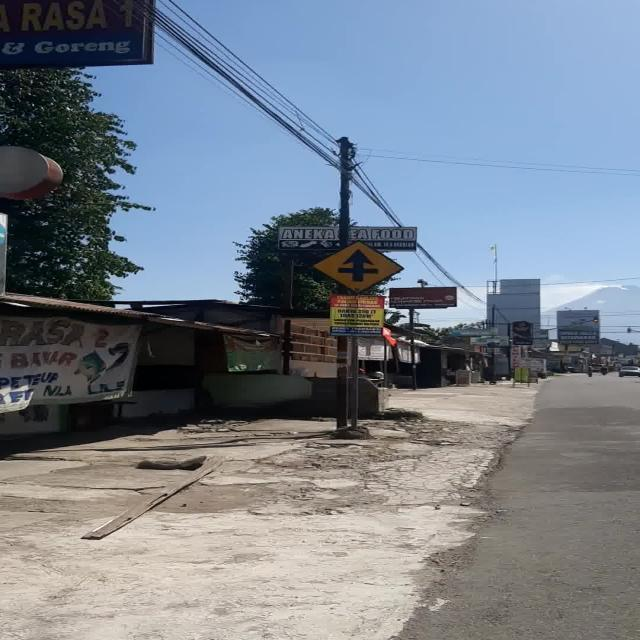Persimpangan 3 Prioritas: (310, 239, 406, 294)
